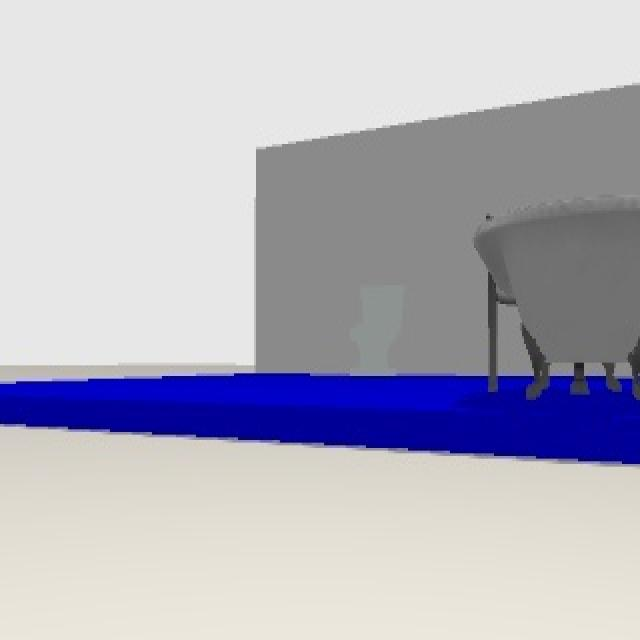bathtub: (472, 195, 640, 402)
